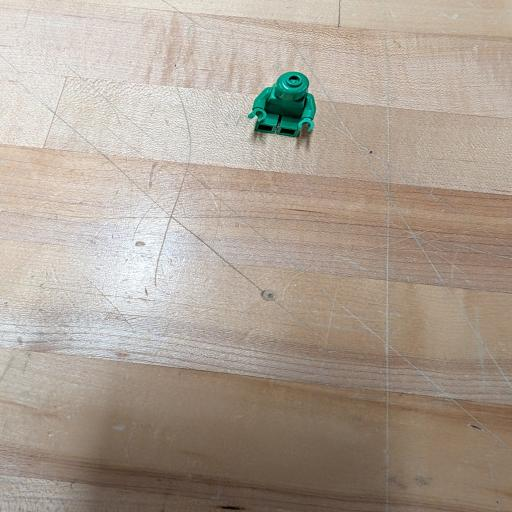Minifig: (248, 72, 315, 136)
